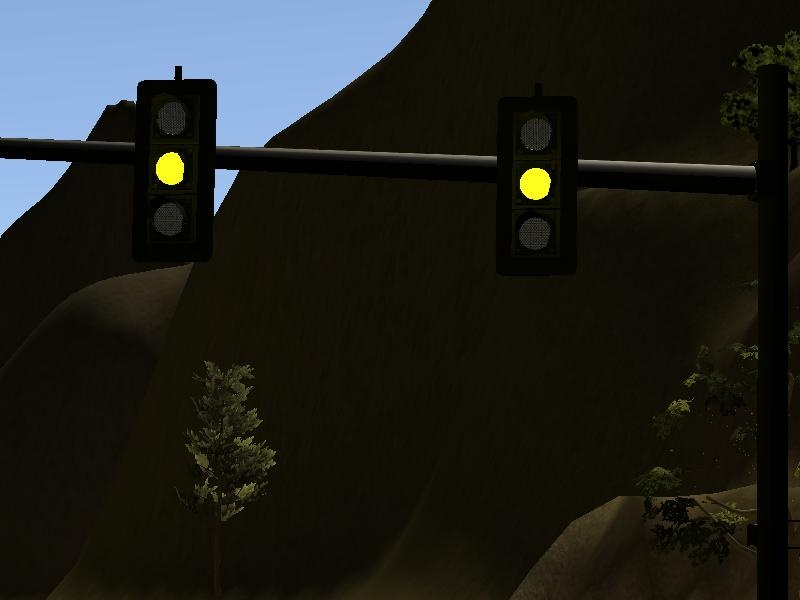yellow: (125, 68, 224, 270), (487, 86, 585, 283)
